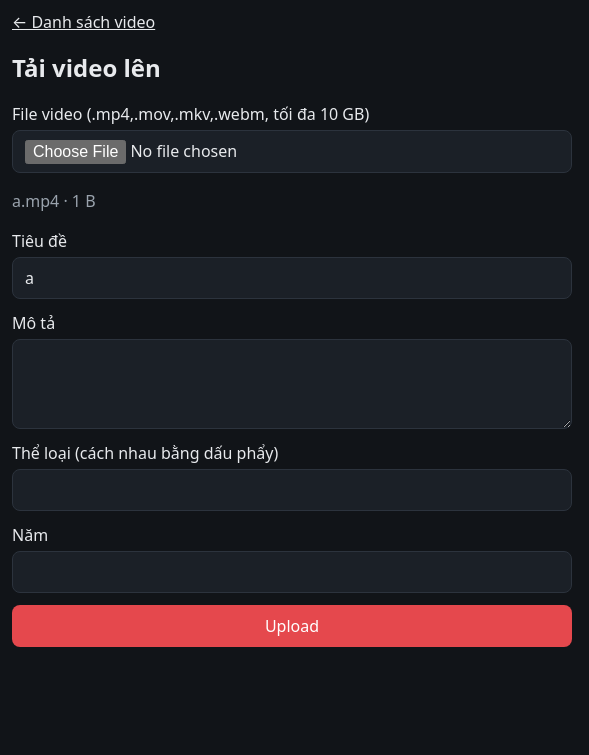
AdminUploadPage › Huỷ upload: xoá lỗi thì báo và cho xoá lại
Earlier steps of the test are not shown.
Click the button "Upload".
click(292, 626)  # box [12,605,572,647]
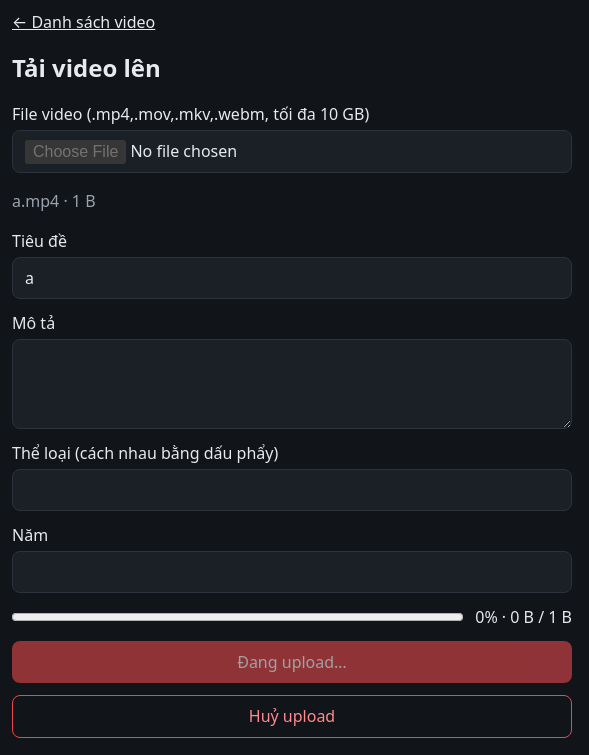
Click the button "Huỷ upload".
click(292, 716)  # box [12,695,572,738]
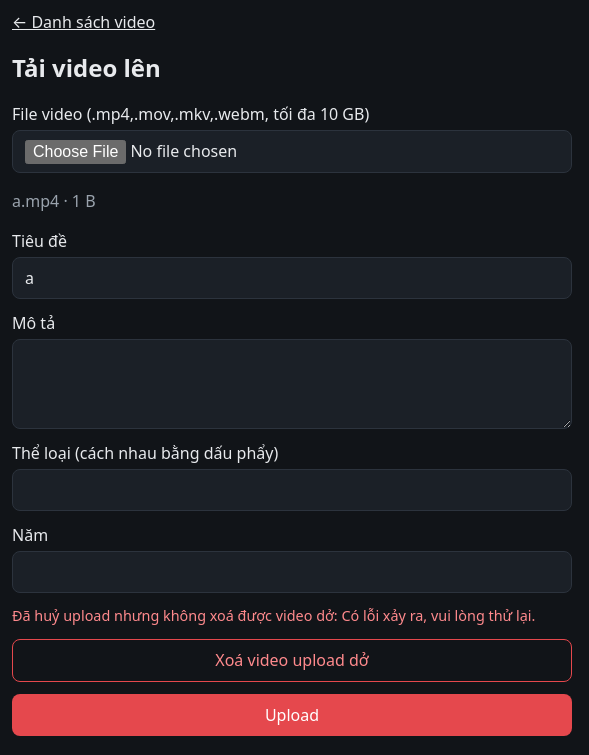
Expected: the message shows "Đã huỷ upload nhưng không xoá được video dở", [12,606,535,625]
Expected: the button "Xoá video upload dở" is shown, [12,639,572,682]
